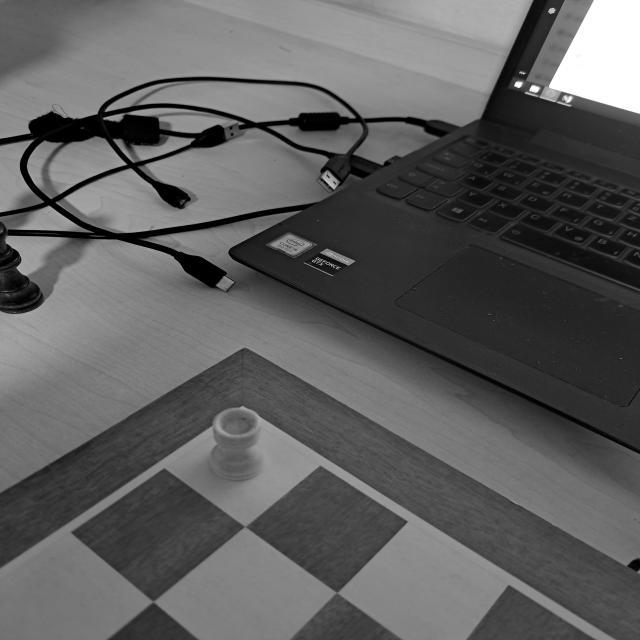chess-table-corners: (191, 394, 290, 446)
